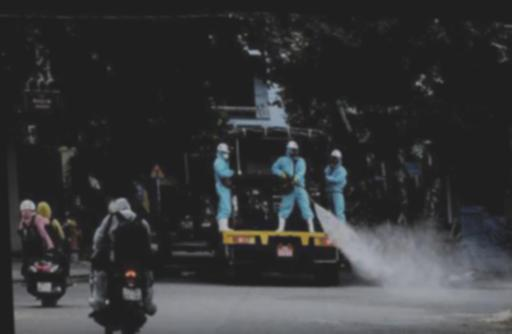License_Plate: (118, 287, 143, 305), (275, 243, 295, 260), (35, 280, 54, 294)
